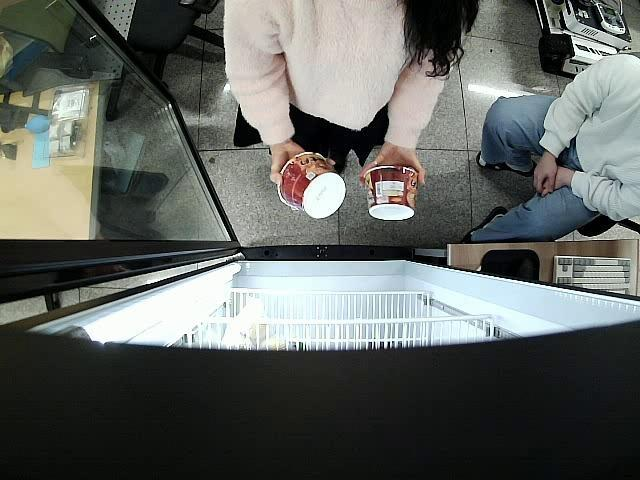05_nuguri_L: (278, 153, 344, 218), (364, 166, 419, 220)
